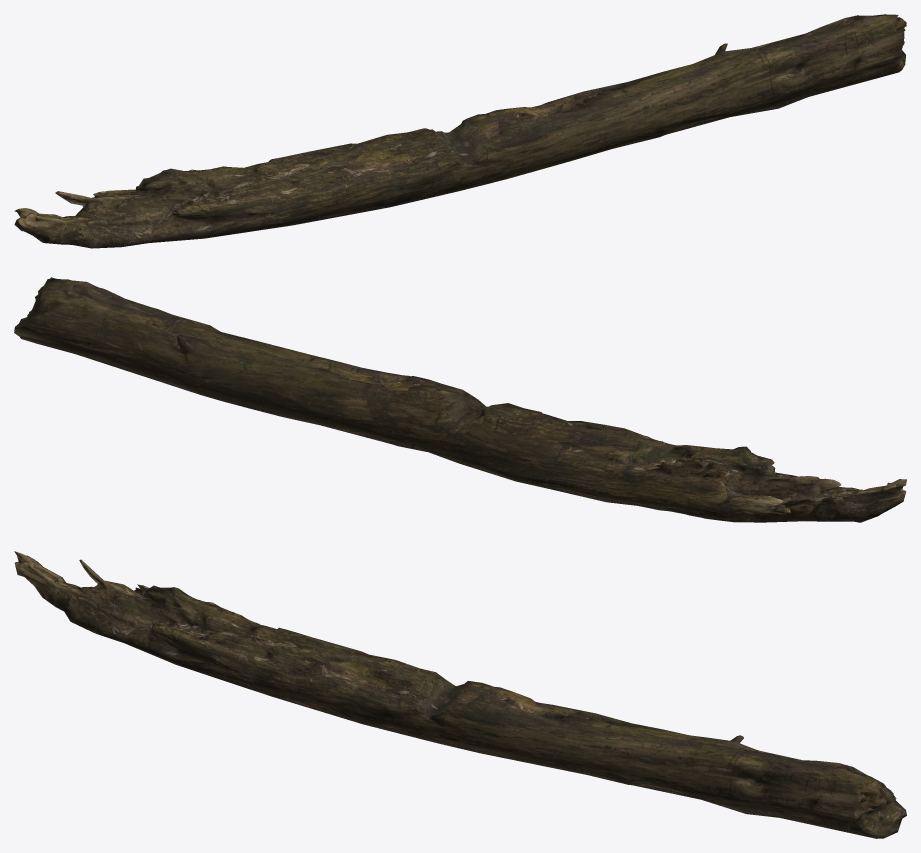
The model's file is dead_tree_trunk-lod.glb.
3 renders of one model, top to bottom at view 1: azimuth 30°, elevation 25°; view 2: azimuth 150°, elevation 25°; view 3: azimuth 330°, elevation 25°, orthographic.
Parts seen in each view (by area): view 1: dead_tree_trunk; view 2: dead_tree_trunk; view 3: dead_tree_trunk.
Boxes of the visible parts, box(x1,y1,x2,y2) form: dead_tree_trunk: box(14, 14, 906, 248); dead_tree_trunk: box(14, 277, 906, 522); dead_tree_trunk: box(14, 551, 906, 838).
Bounding box in the file's own units: 3.05 × 0.2869 × 0.2747.
1 material, 1 textured.
